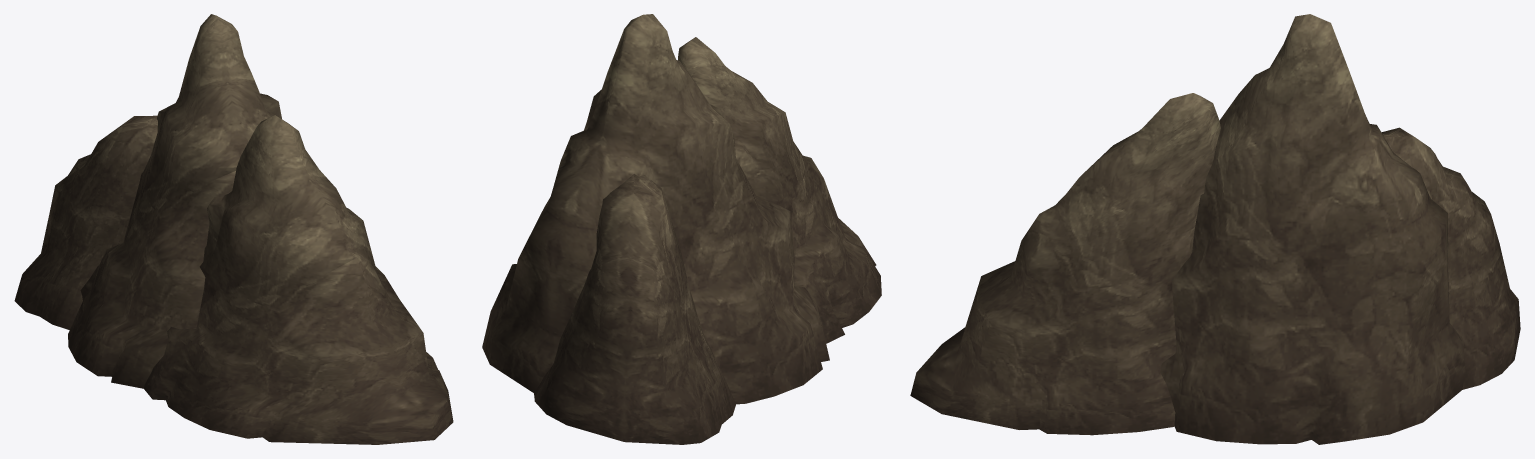
The model's file is Mountain01_shandi_001.FBX.
3 views of the same model, side by side, from view 1: azimuth 30°, elevation 25°; view 2: azimuth 150°, elevation 25°; view 3: azimuth 270°, elevation 25° (orthographic). The views are drawn at different scales.
Parts seen in each view (by area): view 1: Mountain01_shandi_001; view 2: Mountain01_shandi_001; view 3: Mountain01_shandi_001.
Part boxes in pixels (x1,y1,x2,y2): Mountain01_shandi_001: (14, 14, 453, 444); Mountain01_shandi_001: (482, 14, 881, 444); Mountain01_shandi_001: (910, 14, 1520, 444).
Bounding box in the file's own units: 2241 × 2395 × 3716.
